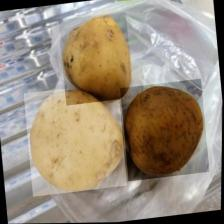Damaged potato: (119, 79, 211, 182)
Potato: (23, 82, 129, 197), (57, 12, 135, 106)
